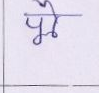au_matra: (42, 1, 61, 32)
